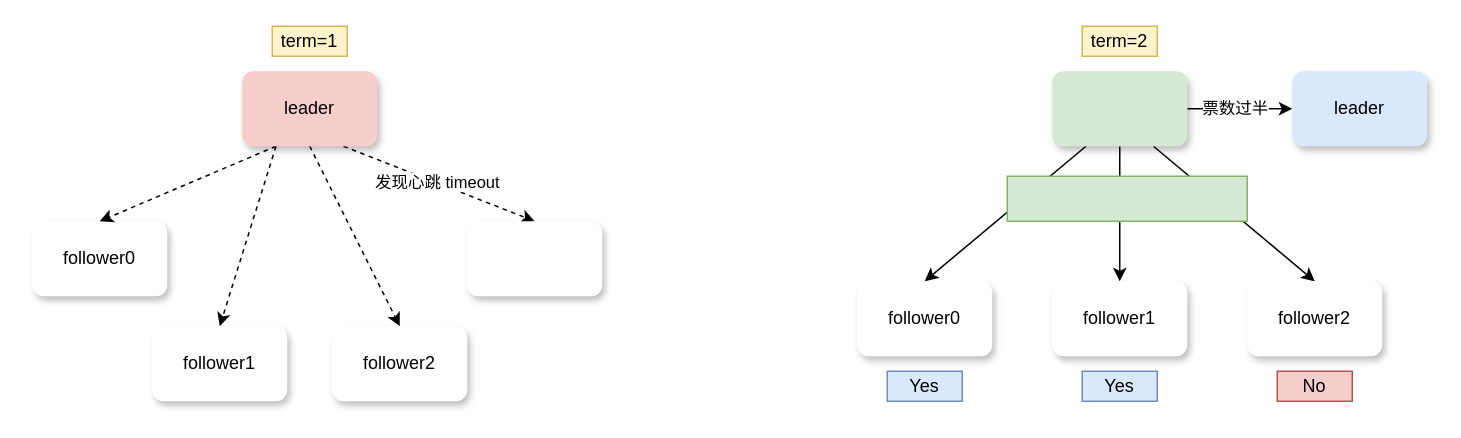
The diagram is 1461 pixels wide and 438 high, and some of its shapes have lost their labels. The centre of each missing label's shape, as x and y in pixels:
"candidate" belongs at point 1121,110.
"follower3" belongs at point 535,260.
"RequestVote" belongs at point 1126,198.
